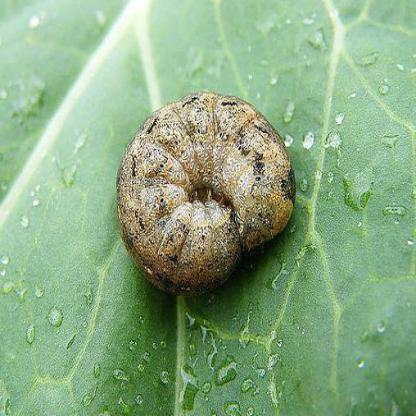armyworm: (111, 86, 297, 296)
